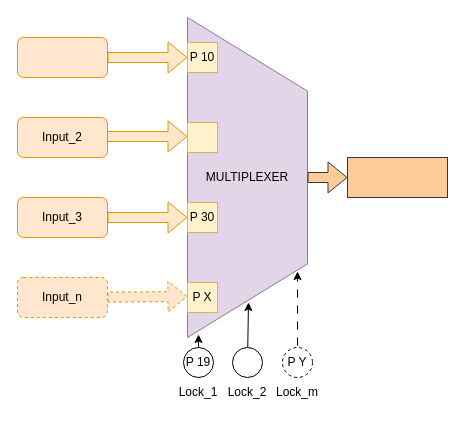
This 465x425 diagram has some shape labels left out. The shapes that lost their labels are listed below. From the top down, each one's centre as x and y in pixels, then its label:
At pixel 62 57: "Input_1".
At pixel 202 137: "P 20".
At pixel 397 177: "Output MAX priority".
At pixel 247 362: "P 29".
